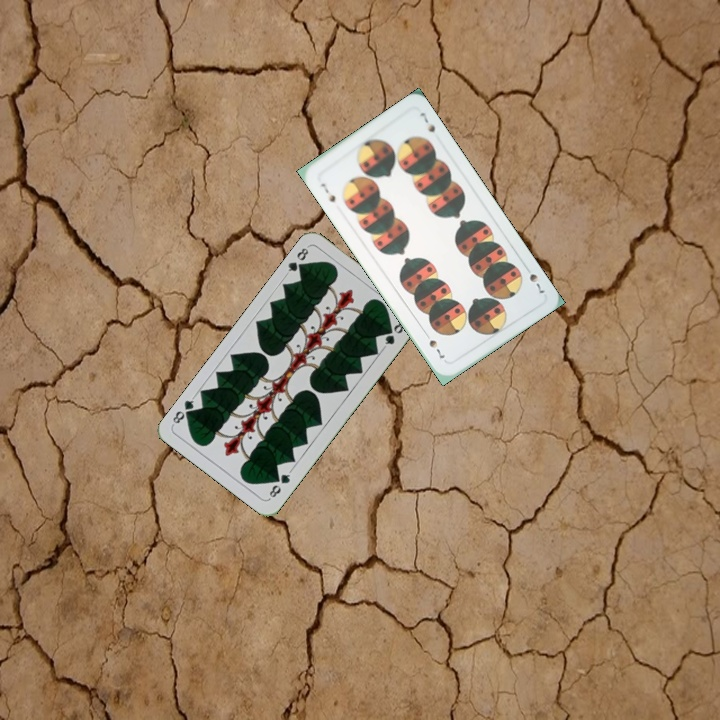G8: (265, 467, 294, 502), (282, 244, 311, 278)
S7: (525, 269, 548, 296), (316, 179, 338, 205)
